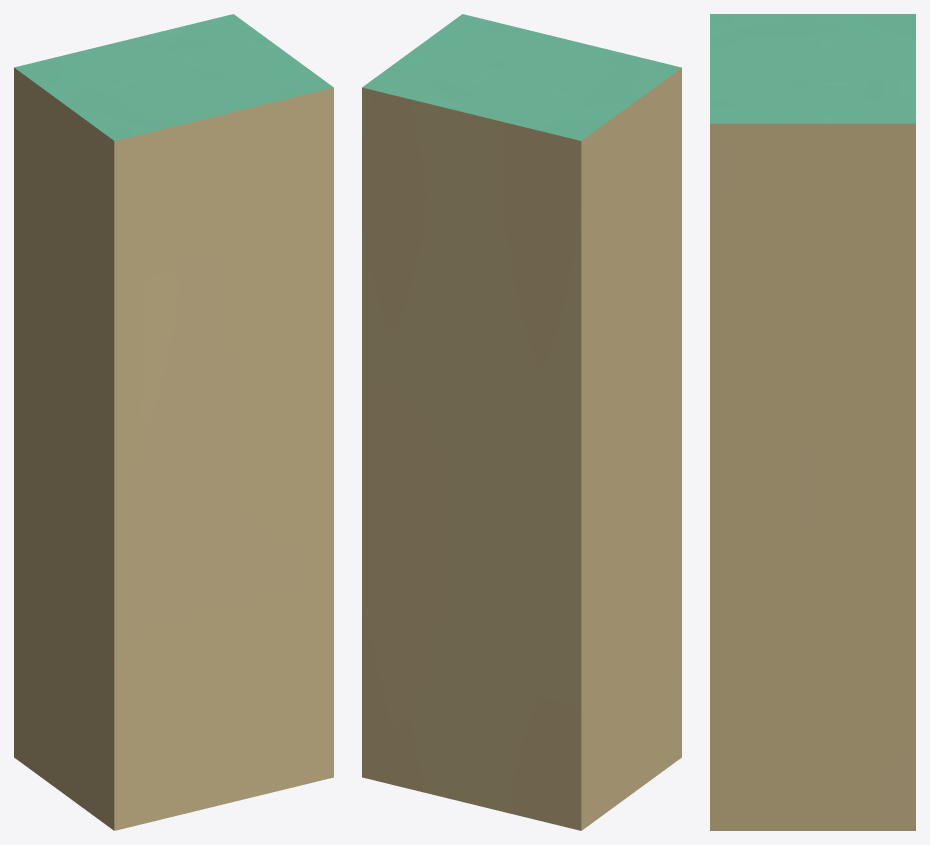
The model's file is Blocks-078.fbx.
The picture shows the model from 3 angles, left to right: view 1: azimuth 30°, elevation 25°; view 2: azimuth 150°, elevation 25°; view 3: azimuth 270°, elevation 25°; orthographic projection. The views are drawn at different scales.
Parts seen in each view (by area): view 1: Blocks-078; view 2: Blocks-078; view 3: Blocks-078.
Part boxes in pixels (<box>): Blocks-078: <box>14,14,333,830</box>; Blocks-078: <box>362,14,681,830</box>; Blocks-078: <box>710,14,915,830</box>.
Bounding box in the file's own units: 10699 × 32131 × 8482.
